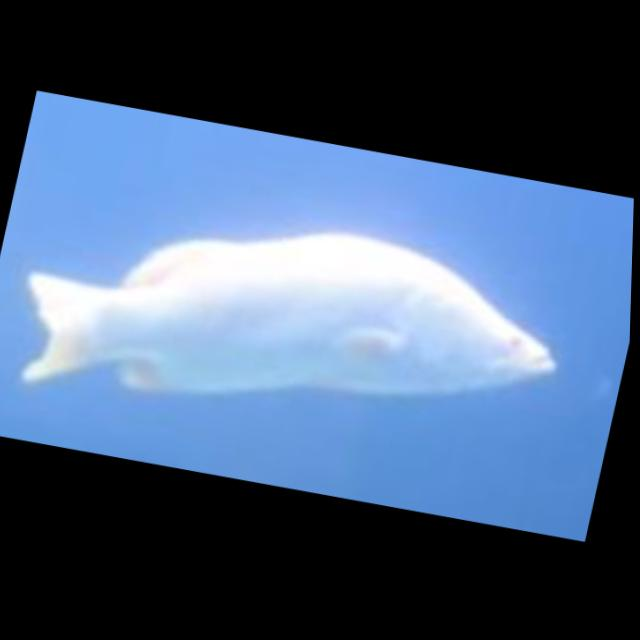Seabass: (0, 171, 581, 483)
